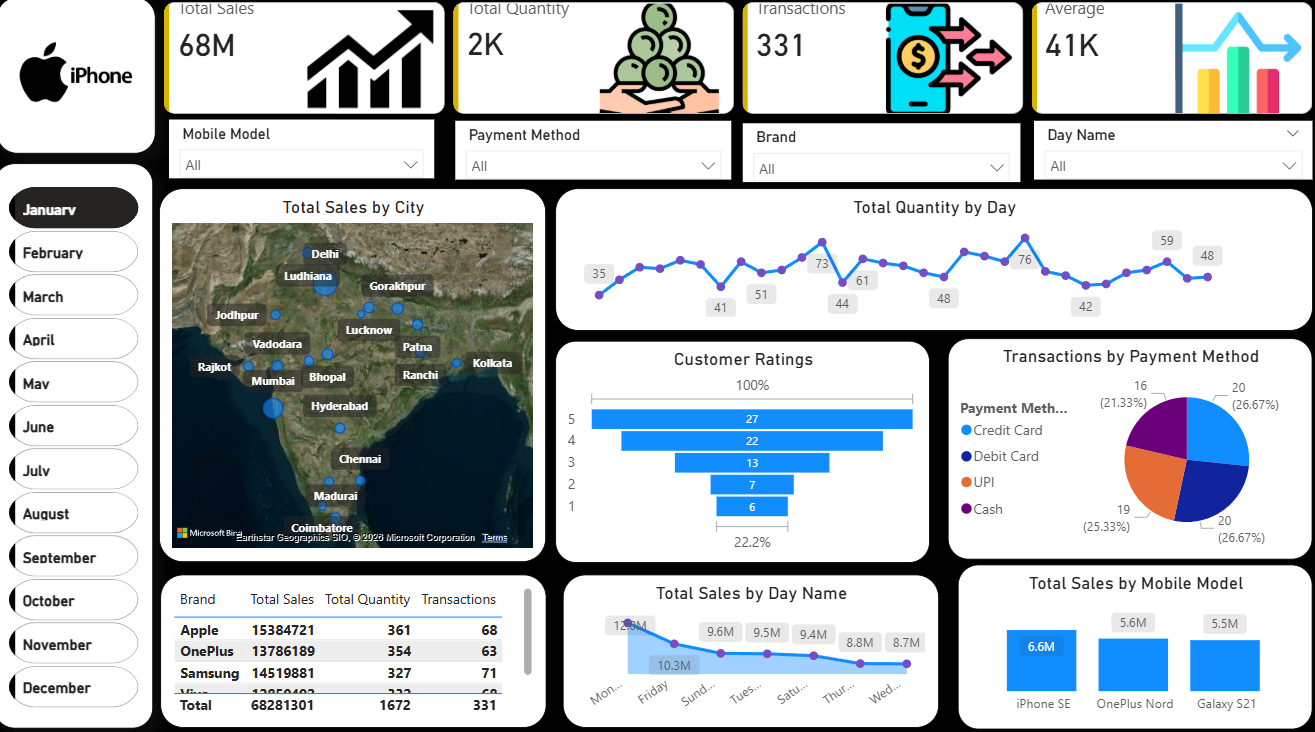

What the dashboard file says about the page in this screenshot:
{"tool":"powerbi","page":{"name":"Page 1","canvas":[1280,720],"ordinal":0},"visuals":[{"type":"shape","box":[2.4,4.8,153.2,150.8],"z":0},{"type":"image","box":[18.1,14.5,123.1,127.9],"z":1000},{"type":"shape","box":[0,165.3,153.2,545.3],"z":2000},{"type":"advancedSlicerVisual","fields":{"Values":["Sales_Data.Date.Variation.Date Hierarchy.Month"]},"box":[9.7,183.4,135.1,515.2],"z":3000},{"type":"cardVisual","fields":{"Data":["Sales_Data.Total Sales","Sales_Data.Total Quantity","Sales_Data.Transactions","Sales_Data.Average"]},"box":[159.3,4.8,1120.8,118.2],"z":4000},{"type":"map","fields":{"Category":["Sales_Data.City"],"Size":["Sales_Data.Total Sales"]},"box":[159.3,189.4,374,360.7],"z":5000},{"type":"lineChart","fields":{"Y":["Sales_Data.Total Quantity"],"Category":["Sales_Data.Date.Variation.Date Hierarchy.Month","Sales_Data.Date.Variation.Date Hierarchy.Day"]},"box":[541.7,189.4,731.1,137.5],"z":6000},{"type":"clusteredColumnChart","fields":{"Category":["Sales_Data.Mobile Model"],"Y":["Sales_Data.Total Sales"]},"box":[930.2,552.5,342.6,159.3],"z":7000},{"type":"pieChart","fields":{"Category":["Sales_Data.Payment Method"],"Y":["Sales_Data.Transactions"]},"box":[920.5,334.2,352.3,213.5],"z":8000},{"type":"funnel","title":" Customer Ratings  ","fields":{"Category":["Sales_Data.Customer Ratings"],"Y":["CountNonNull(Sales_Data.Customer Ratings)"]},"box":[541.7,336.6,361.9,214.7],"z":9000},{"type":"areaChart","fields":{"Category":["Sales_Data.Day Name"],"Y":["Sales_Data.Total Sales"]},"box":[548.9,562.2,363.1,148.4],"z":10000},{"type":"tableEx","fields":{"Values":["Sales_Data.Brand","Sales_Data.Total Sales","Sales_Data.Total Quantity","Sales_Data.Transactions"]},"box":[160.5,562.2,372.8,148.4],"z":10001},{"type":"slicer","fields":{"Values":["Sales_Data.Mobile Model"]},"box":[168.9,123.1,255.8,56.7],"z":10002},{"type":"slicer","fields":{"Values":["Sales_Data.Payment Method"]},"box":[445.2,124.3,266.6,56.7],"z":10003},{"type":"slicer","fields":{"Values":["Sales_Data.Brand"]},"box":[722.7,126.7,267.8,56.7],"z":10004},{"type":"slicer","fields":{"Values":["Sales_Data.Day Name"]},"box":[1003.8,124.3,269,56.7],"z":10005}]}

Visuals, with their boxes in screenshot pixels (x1, y1, x2, y2), scaled from the page's 1280x720 canvas onto the 1315x732 screenshot:
shape: <box>2,5,160,158</box>
image: <box>19,15,145,145</box>
shape: <box>0,168,157,722</box>
advancedSlicerVisual - Sales_Data.Date.Variation.Date Hierarchy.Month: <box>10,186,149,710</box>
cardVisual - Sales_Data.Total Sales x Sales_Data.Total Quantity: <box>164,5,1314,125</box>
map - Sales_Data.City x Sales_Data.Total Sales: <box>164,193,548,559</box>
lineChart - Sales_Data.Total Quantity x Sales_Data.Date.Variation.Date Hierarchy.Month: <box>557,193,1308,332</box>
clusteredColumnChart - Sales_Data.Mobile Model x Sales_Data.Total Sales: <box>956,562,1308,724</box>
pieChart - Sales_Data.Payment Method x Sales_Data.Transactions: <box>946,340,1308,557</box>
" Customer Ratings  " funnel: <box>557,342,928,560</box>
areaChart - Sales_Data.Day Name x Sales_Data.Total Sales: <box>564,572,937,722</box>
tableEx - Sales_Data.Brand x Sales_Data.Total Sales: <box>165,572,548,722</box>
slicer - Sales_Data.Mobile Model: <box>174,125,436,183</box>
slicer - Sales_Data.Payment Method: <box>457,126,731,184</box>
slicer - Sales_Data.Brand: <box>742,129,1018,186</box>
slicer - Sales_Data.Day Name: <box>1031,126,1308,184</box>
